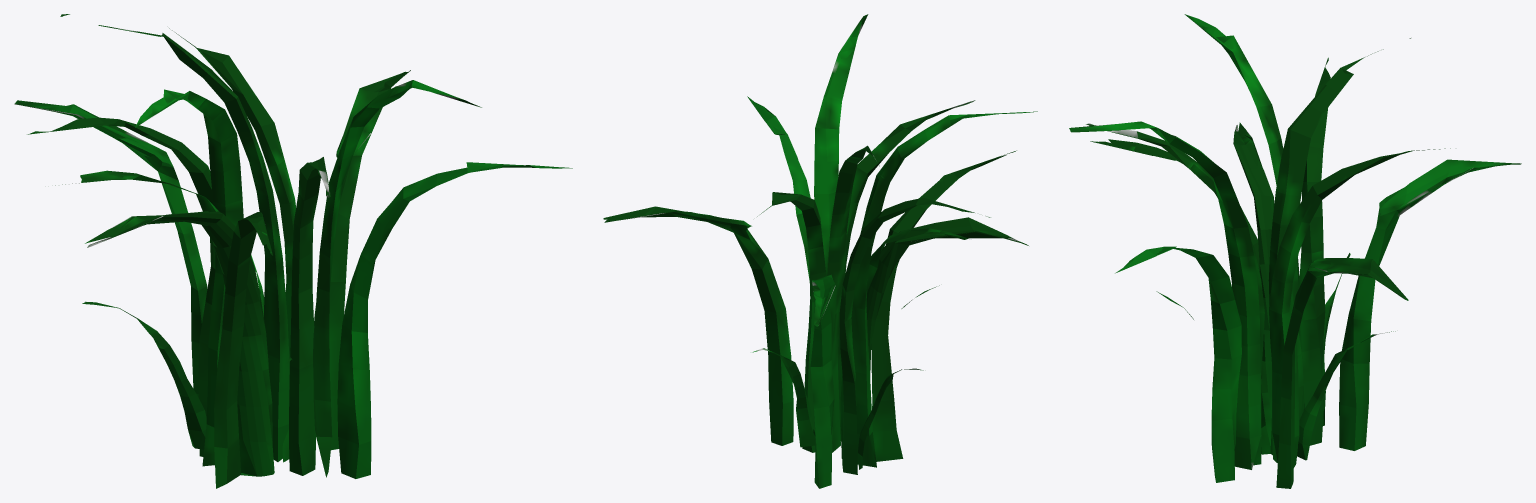
The model's file is grass bunch 2.fbx.
3 renders of one model, left to right at view 1: azimuth 30°, elevation 25°; view 2: azimuth 150°, elevation 25°; view 3: azimuth 270°, elevation 25°, orthographic. The views are drawn at different scales.
Parts seen in each view (by area): view 1: grass bunch 2; view 2: grass bunch 2; view 3: grass bunch 2.
Boxes of the visible parts, bbox=[...] form: grass bunch 2: bbox=[14, 14, 572, 488]; grass bunch 2: bbox=[603, 14, 1037, 488]; grass bunch 2: bbox=[1069, 14, 1521, 488].
Bounding box in the file's own units: 14.53 × 13.79 × 15.46.
Materials: 1 (1 with a texture image).
